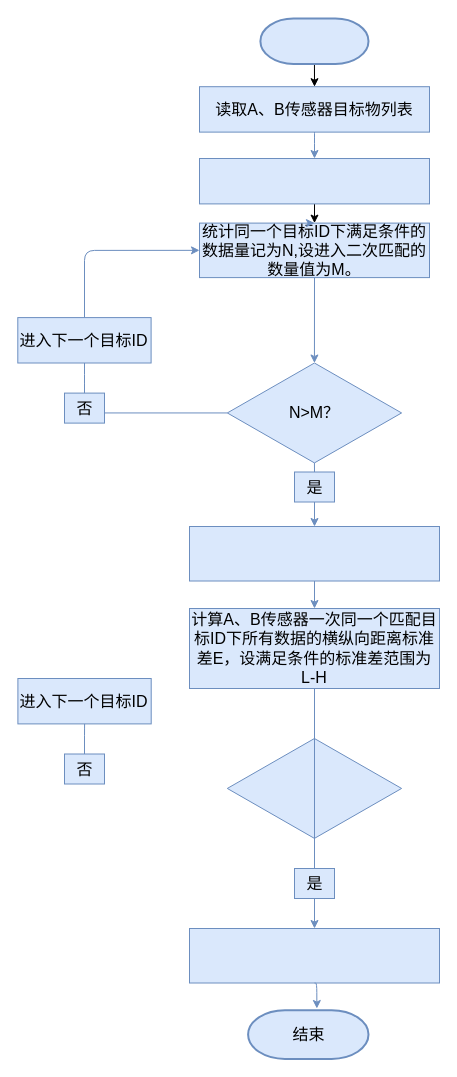
The diagram is 457 pixels wide and 1077 high, and some of its shapes have lost their labels. Each missing label, with the box of its shape:
L<E<H: (226, 738, 402, 838)
匹配成功，保存A、B传感器的匹配关系: (188, 928, 440, 983)
基于时间戳、横纵向位置，选取符合条件的目标进行一次匹配: (198, 158, 430, 204)
开始: (259, 17, 369, 64)
进入二次匹配: (188, 526, 440, 581)
